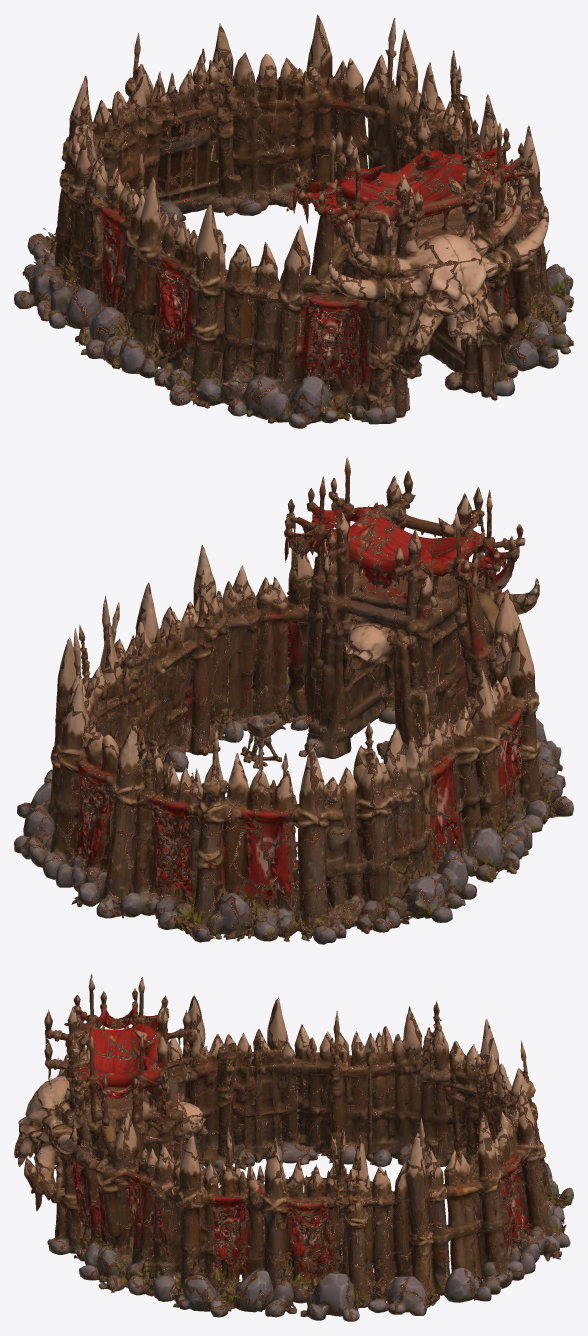
The model's file is fort_closed.glb.
3 views of the same model, one above another, from view 1: azimuth 30°, elevation 25°; view 2: azimuth 150°, elevation 25°; view 3: azimuth 270°, elevation 25° (orthographic). The views are drawn at different scales.
Bounding box in the file's own units: 1.51 × 0.8279 × 1.88.
Materials: 1 (1 with a texture image).
